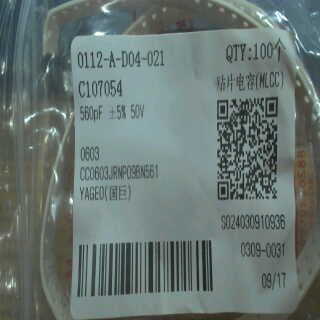560pF: (78, 101, 106, 125)
